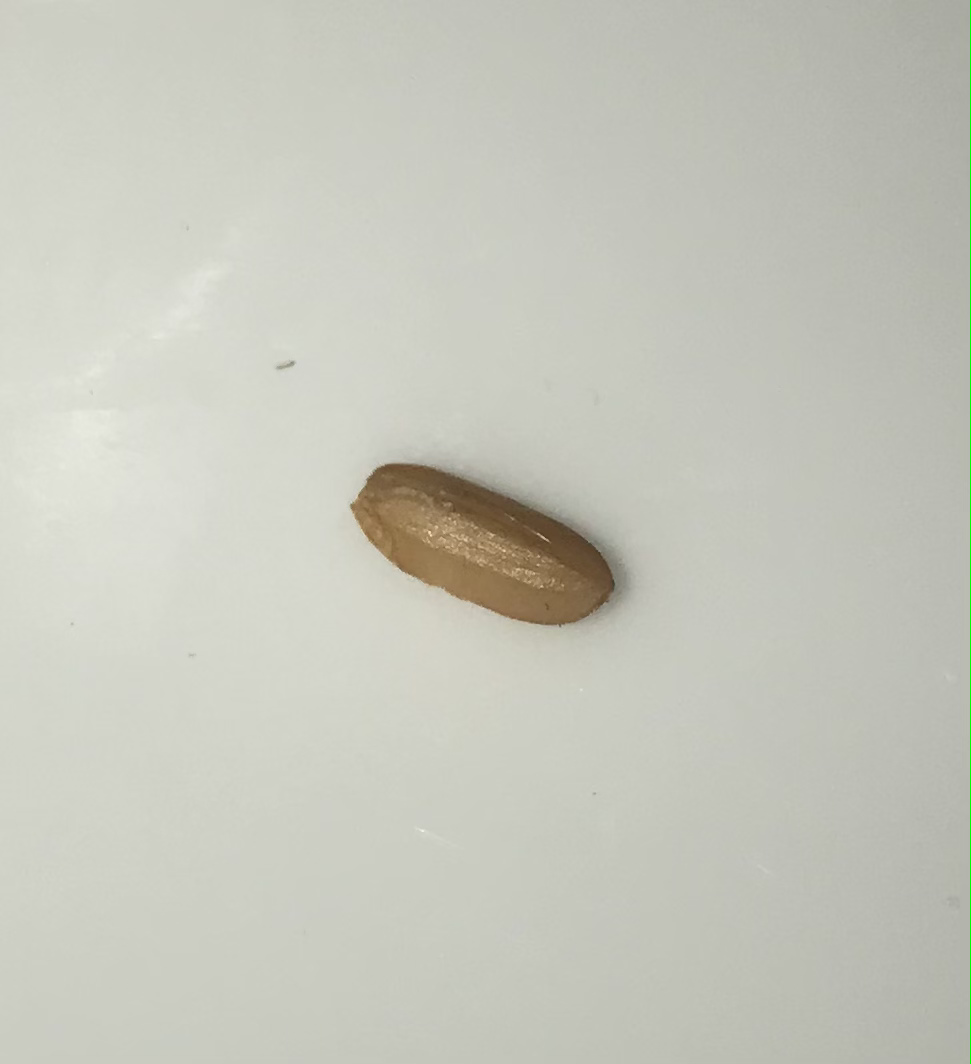Gao Lut Dien Bien: (343, 446, 633, 643)
